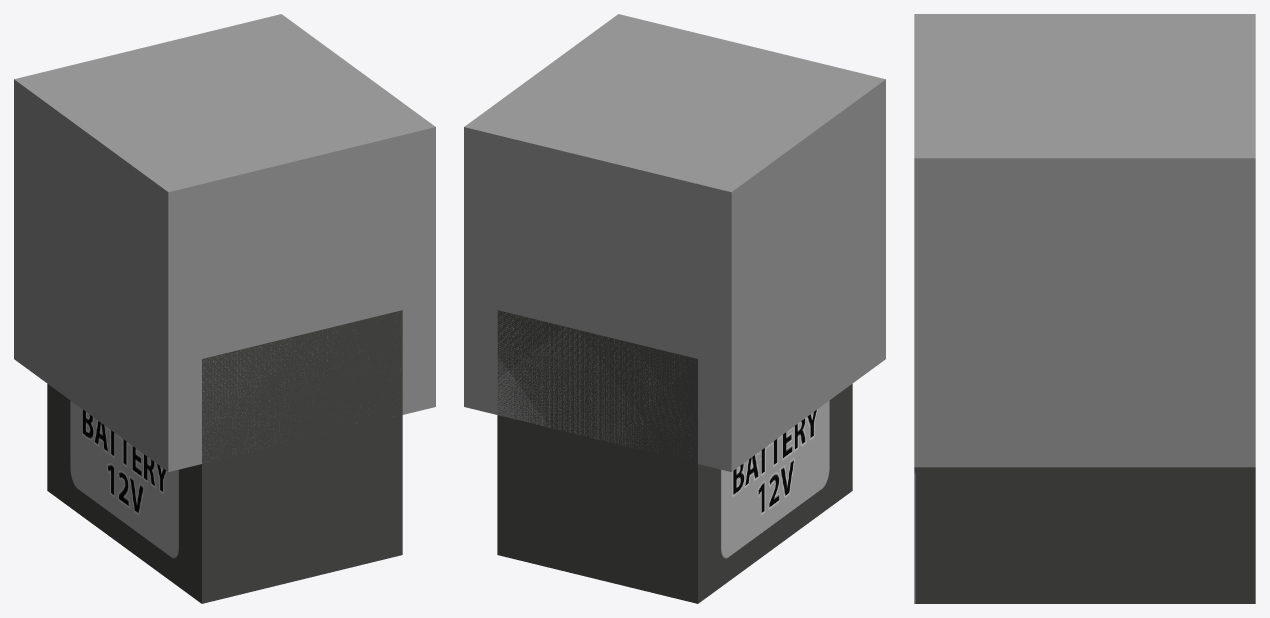
File: HighCapacityBattery.obj
3 views of the same model, side by side, from view 1: azimuth 30°, elevation 25°; view 2: azimuth 150°, elevation 25°; view 3: azimuth 270°, elevation 25° (orthographic). The views are drawn at different scales.
Visible parts, largest first — view 1: Minecraft_Block_Cube, Battery, Minecraft_2_Edge_Connectivity_Cube.002; view 2: Minecraft_Block_Cube, Battery, Minecraft_2_Edge_Connectivity_Cube.002; view 3: Minecraft_Block_Cube, Battery.
Part boxes in pixels (x1,y1,x2,y2): Minecraft_Block_Cube: (14, 14, 435, 471); Battery: (47, 310, 402, 603); Minecraft_2_Edge_Connectivity_Cube.002: (169, 300, 435, 471); Minecraft_Block_Cube: (464, 14, 885, 471); Battery: (497, 310, 852, 603); Minecraft_2_Edge_Connectivity_Cube.002: (464, 300, 730, 471); Minecraft_Block_Cube: (914, 14, 1255, 467); Battery: (914, 467, 1255, 603).
Bounding box in the file's own units: 1 × 1.5 × 1.
Materials: 2 (1 with a texture image).
